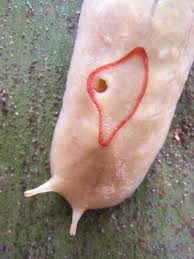slug: (23, 1, 194, 234)
